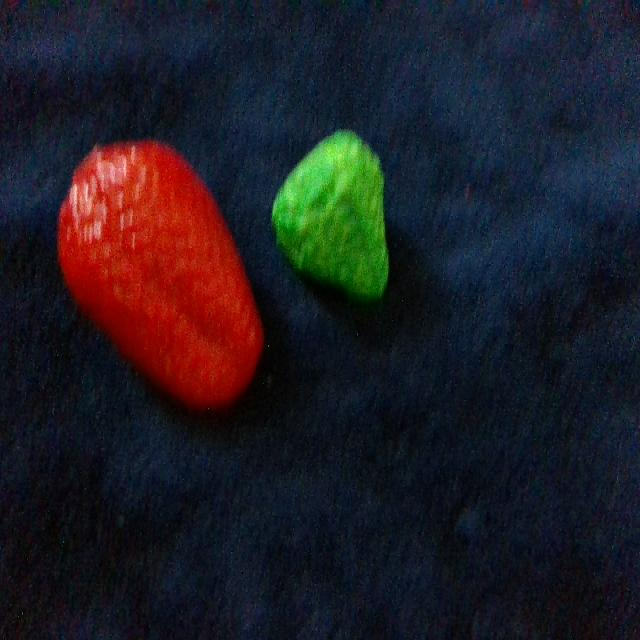grande_roja: (59, 141, 263, 408)
verde: (272, 131, 388, 299)
